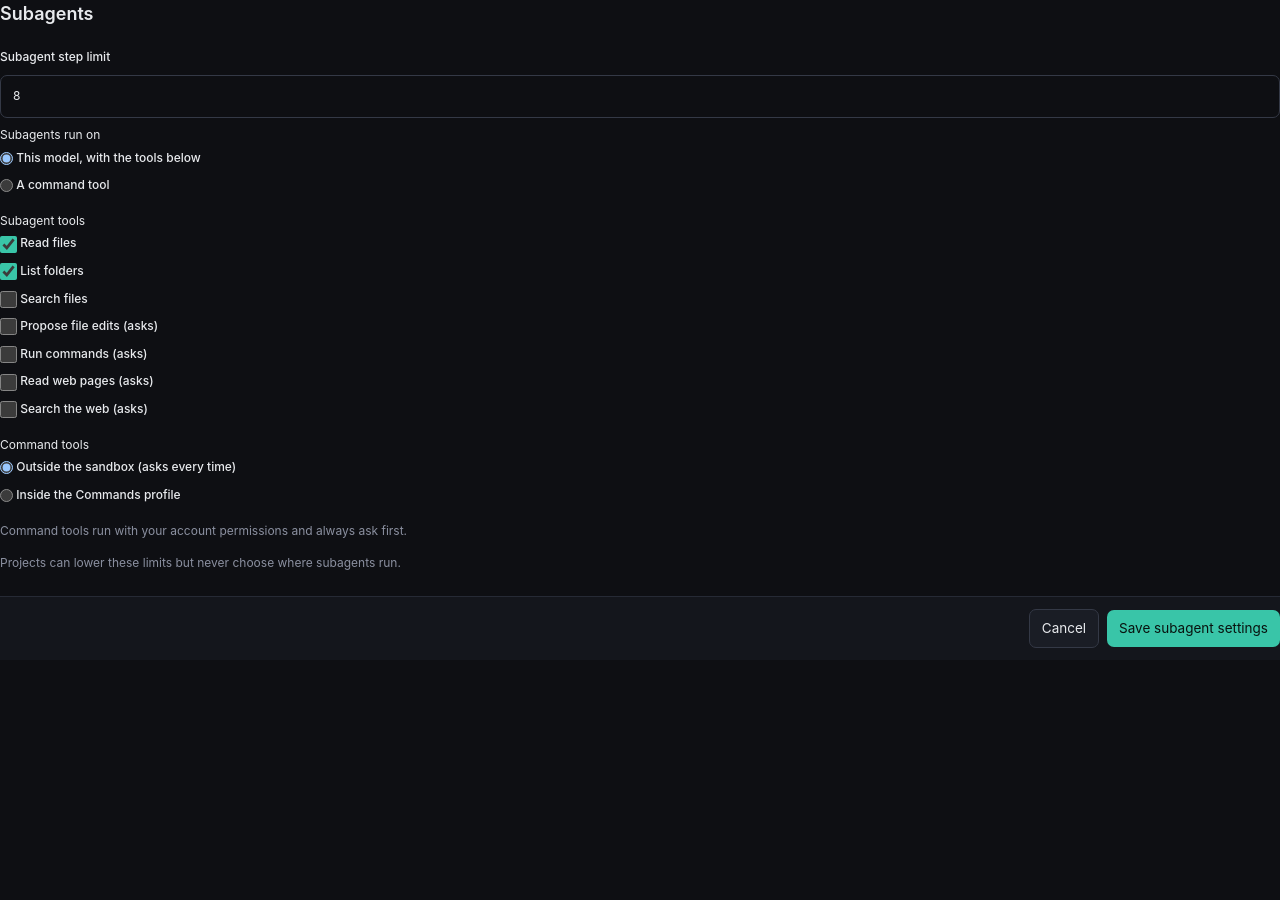
Test: memory management › shows command tool settings after choosing a command tool
Click the radio button labelled "A command tool" at (6, 186), box [0,180,13,192]
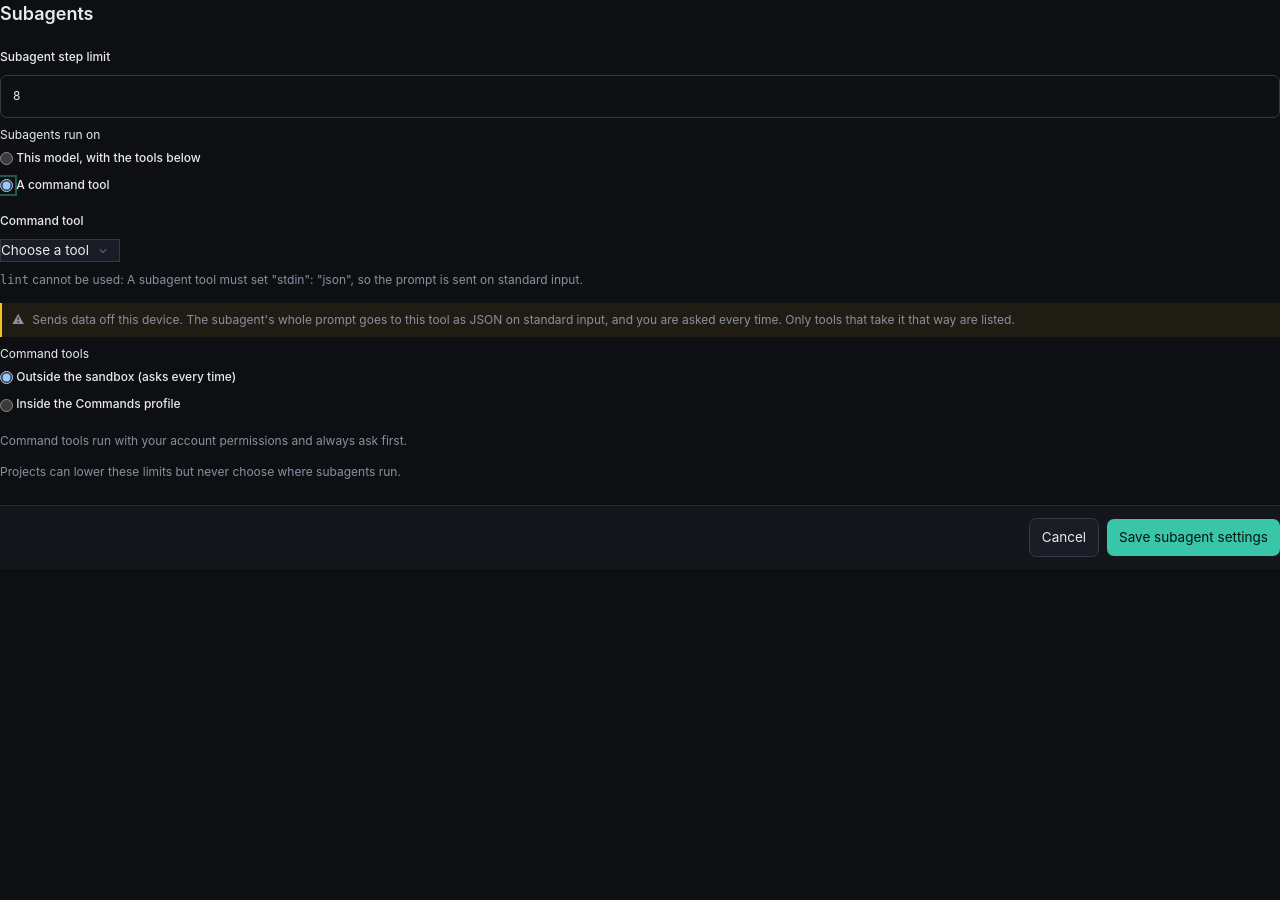
Check: the dropdown labelled "Command tool" is shown, box [0,240,120,262]
